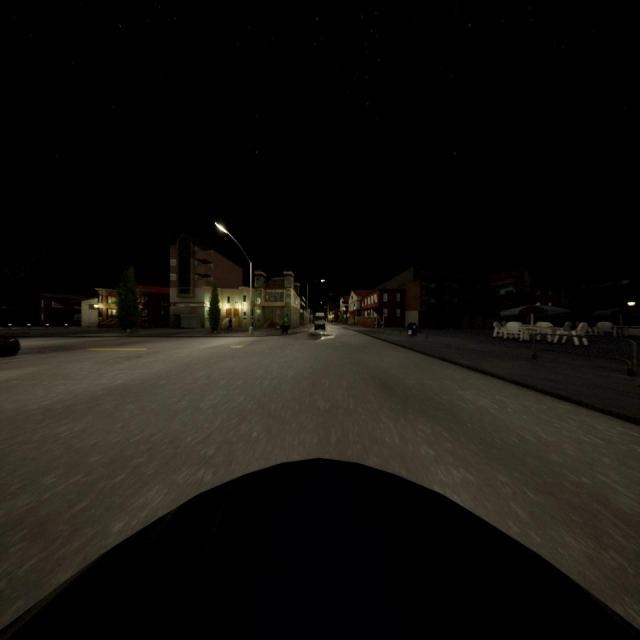Vehicle: (2, 455, 639, 640), (0, 334, 21, 358), (314, 312, 326, 330)
